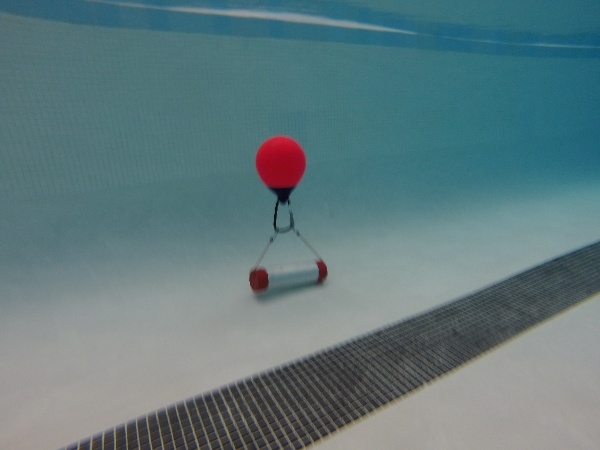buoy_red: (251, 136, 309, 204)
